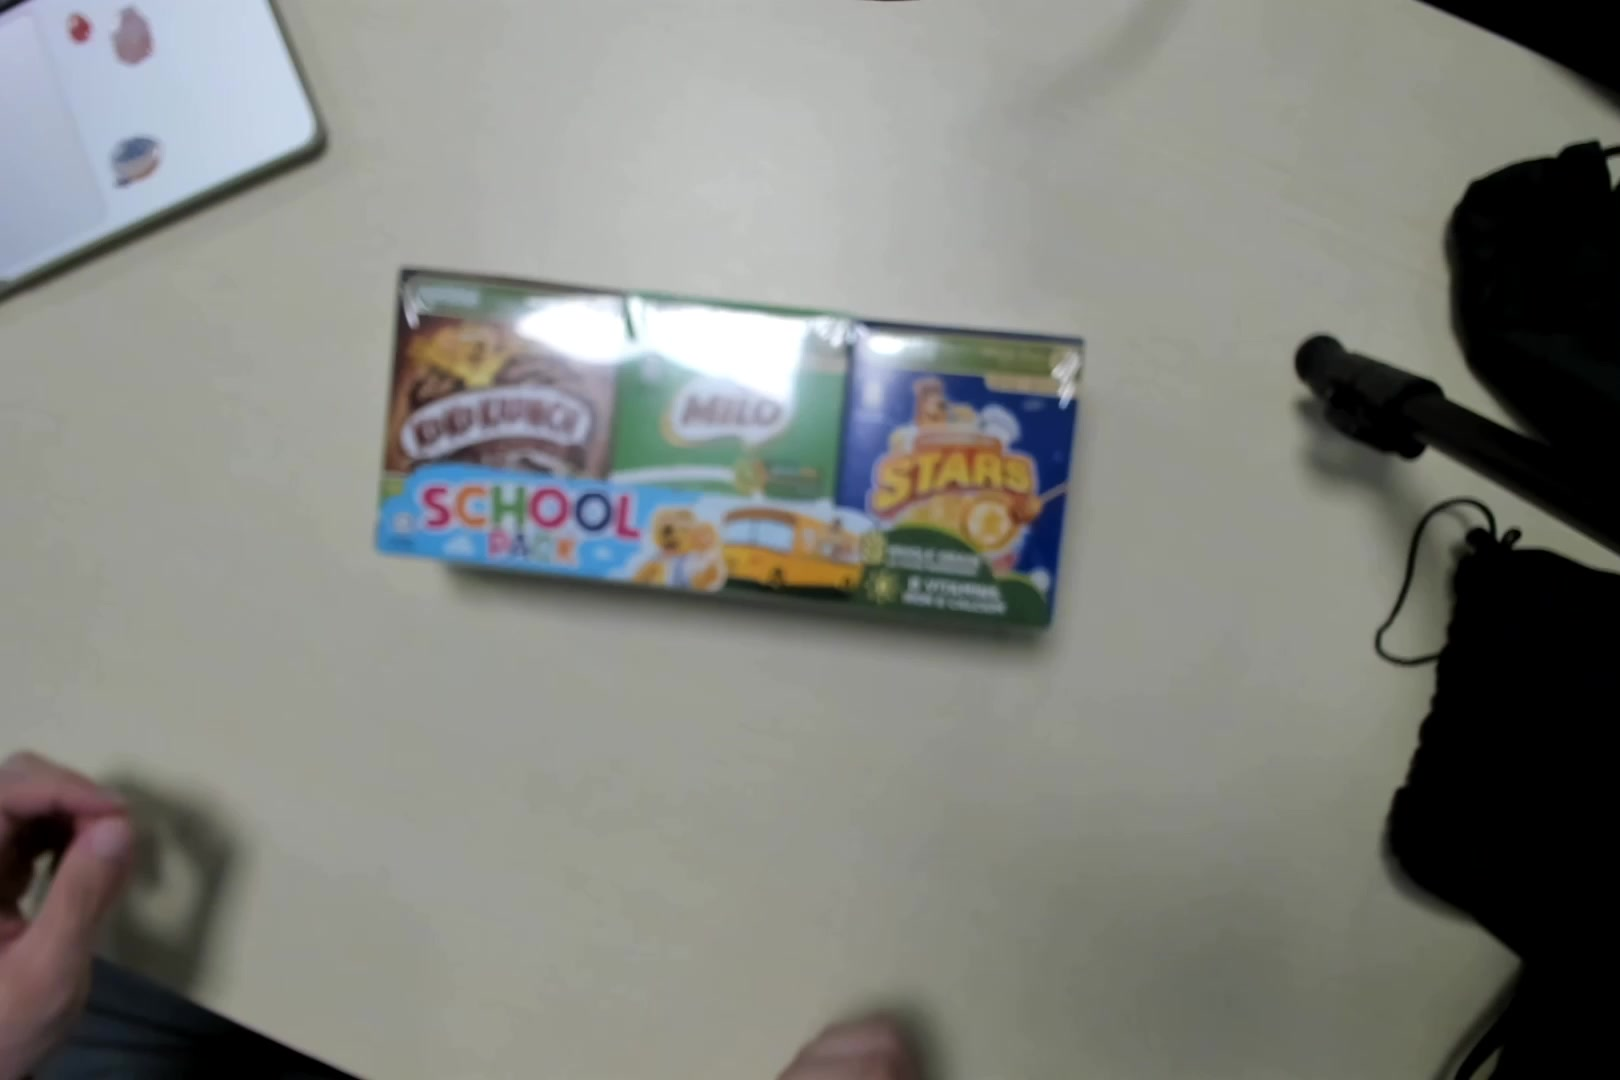BreakfastCereals_100-199g_Halal_NonHealthy: (385, 263, 1060, 624)
